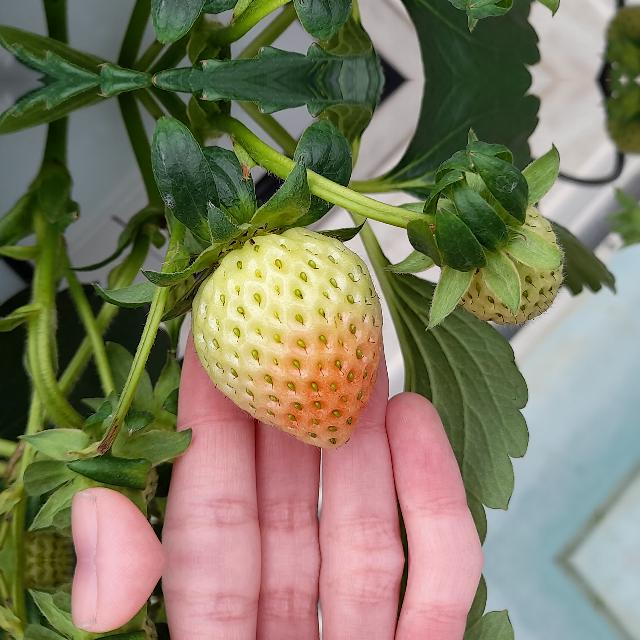Health_50: (190, 227, 382, 449)
